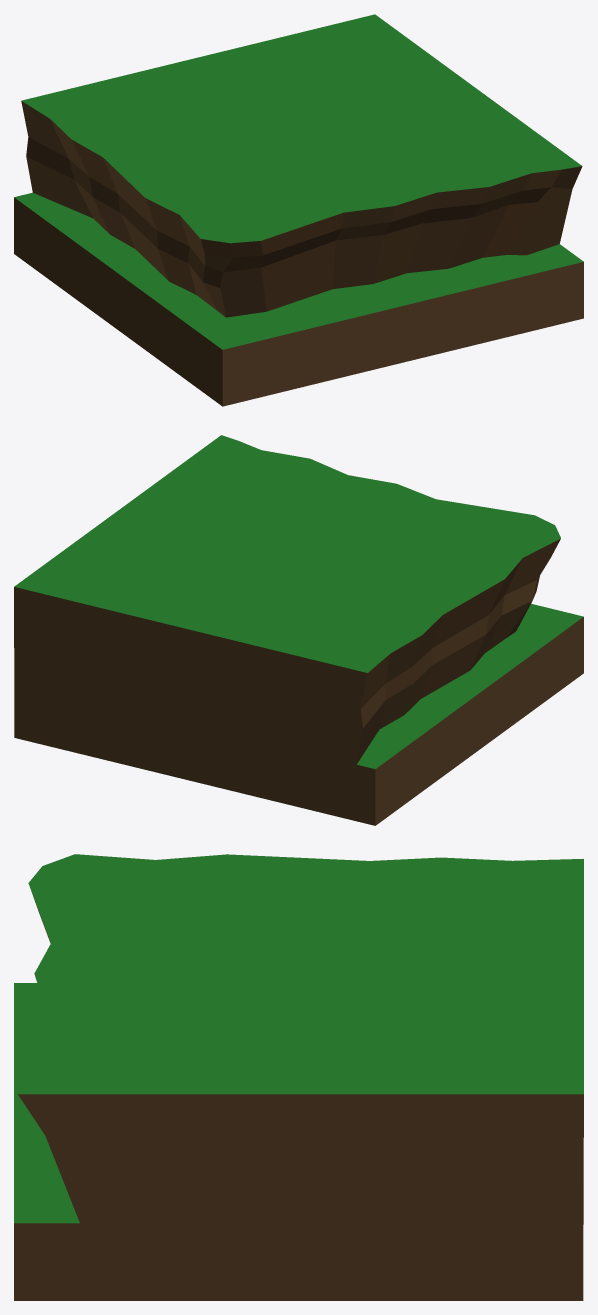
File: Cliff_Edge.fbx
3 views of the same model, one above another, from view 1: azimuth 30°, elevation 25°; view 2: azimuth 150°, elevation 25°; view 3: azimuth 270°, elevation 25° (orthographic). The views are drawn at different scales.
Visible parts, largest first — view 1: Cliff_Edge; view 2: Cliff_Edge; view 3: Cliff_Edge.
Boxes of the visible parts, box(x1,y1,x2,y2) form: Cliff_Edge: box(14, 14, 583, 406); Cliff_Edge: box(14, 435, 583, 825); Cliff_Edge: box(14, 854, 583, 1300).
Size of the model in its own units: 200 by 80 by 200.
